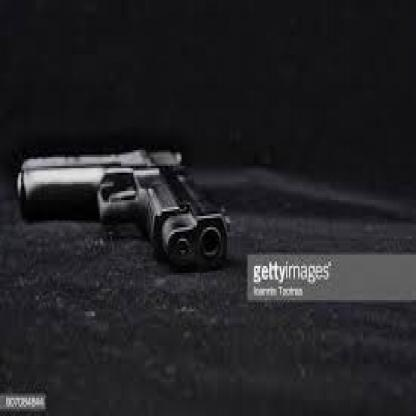Pistol: (6, 32, 235, 380)
